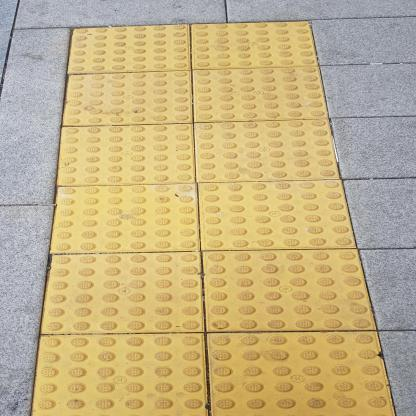podotacti: (19, 17, 405, 415)
